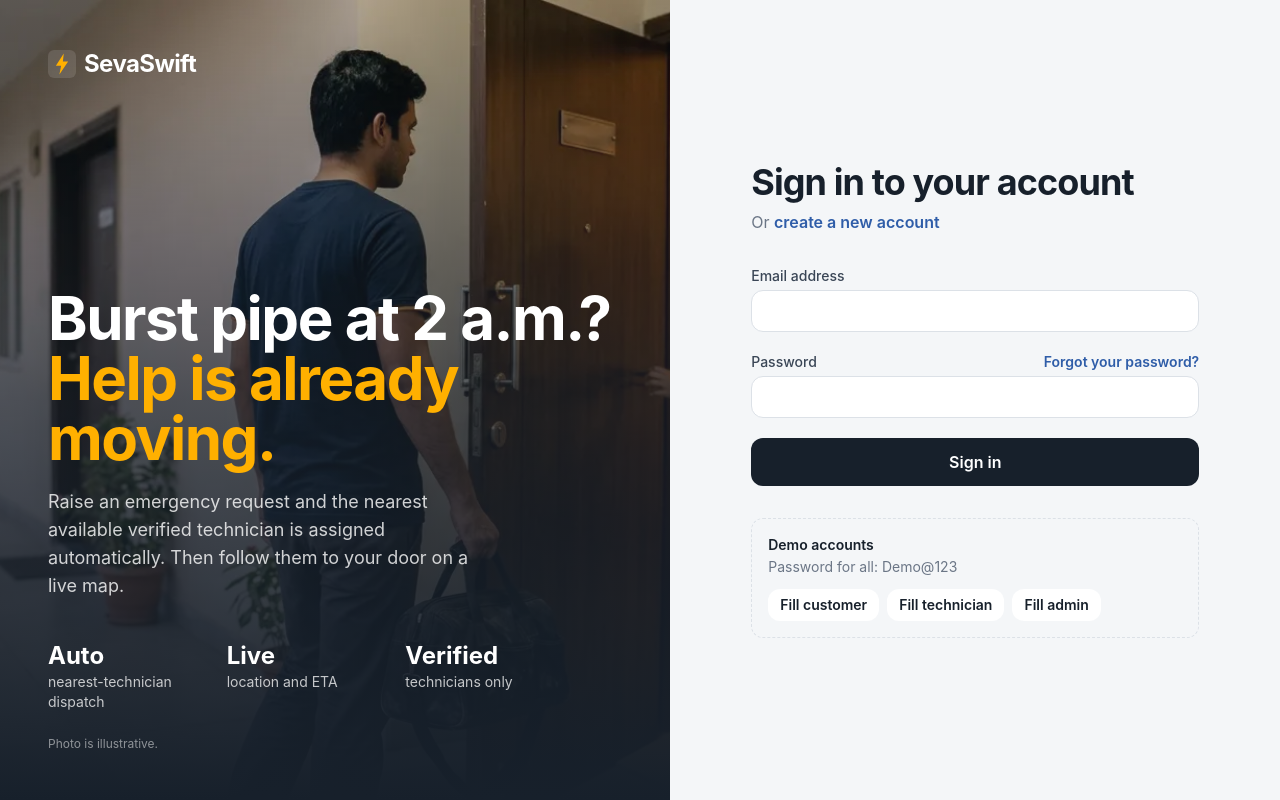
Test: Login Page › shows validation error for invalid email
Type "invalid" into the field labelled "Email address" at (975, 311), box x1=751 y1=290 x2=1199 y2=332
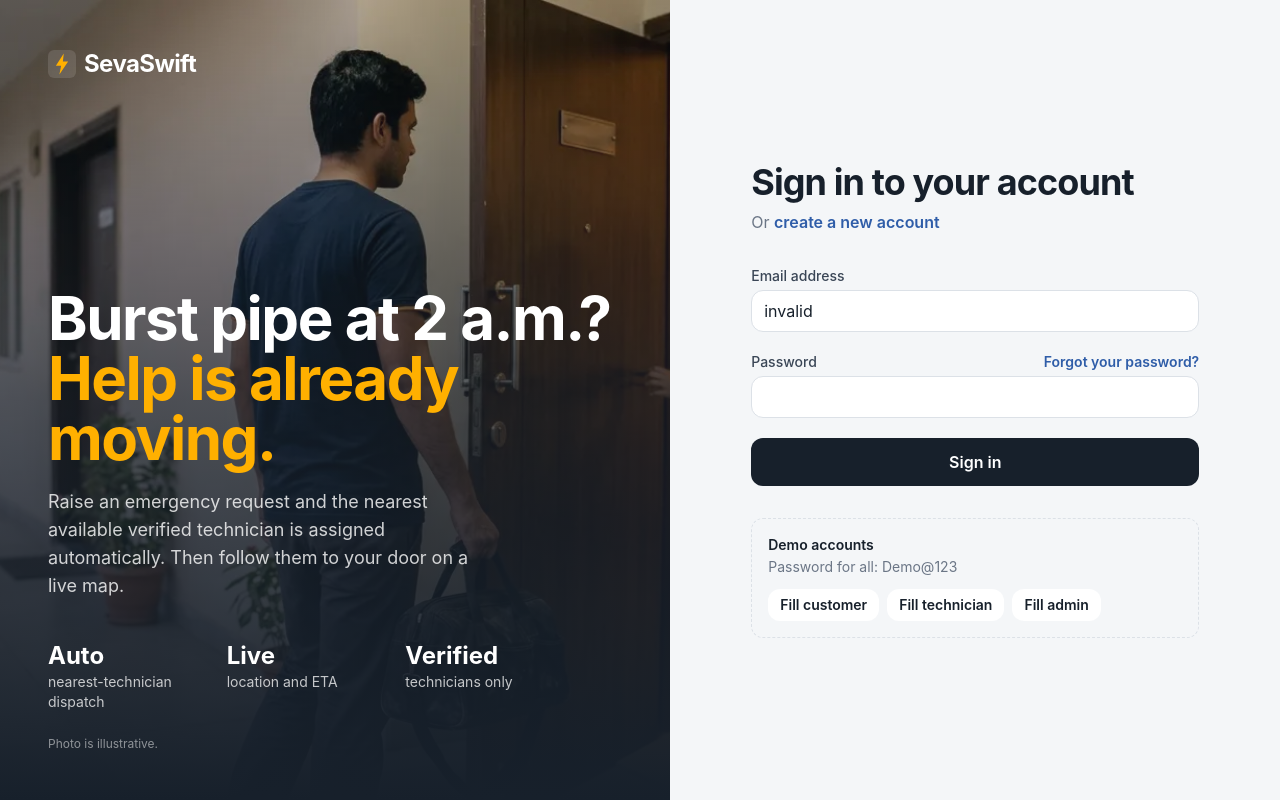
Type "password123" into the password field labelled "Password" at (975, 397), box x1=751 y1=376 x2=1199 y2=418
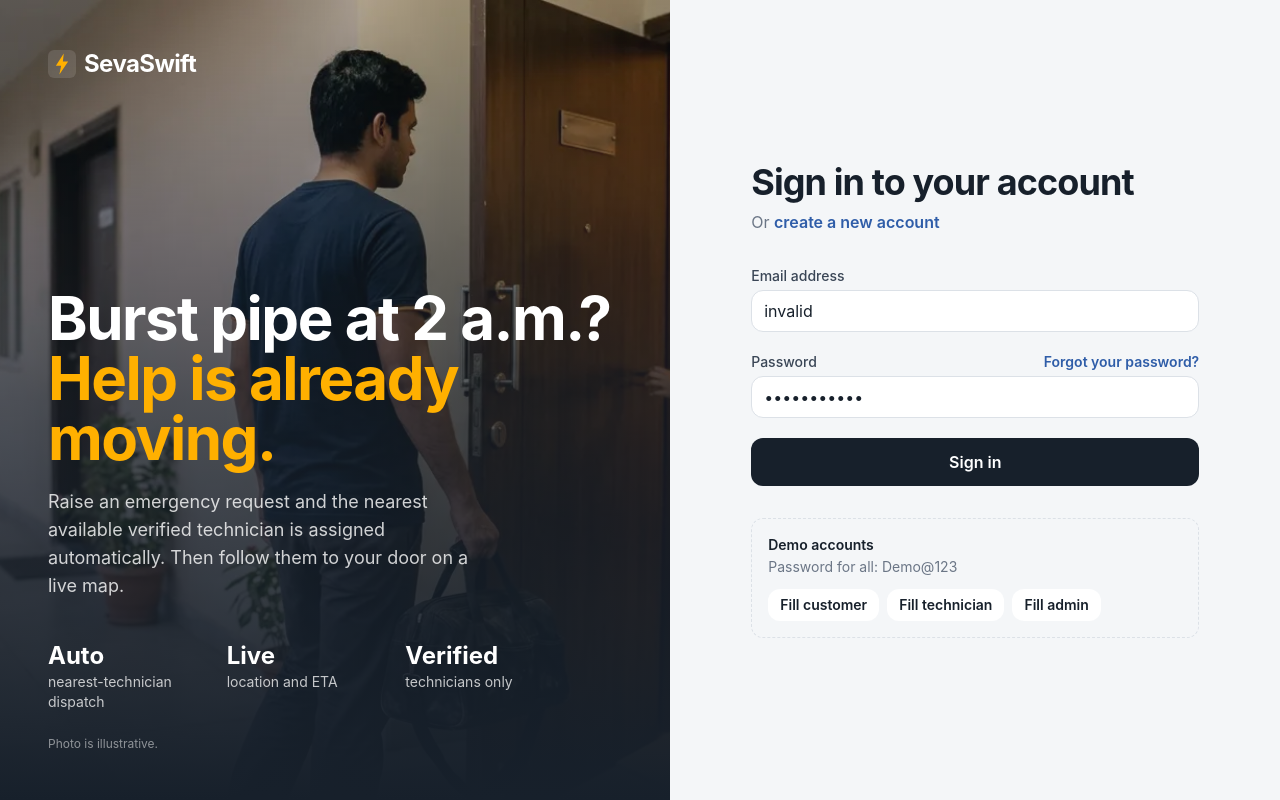
Submit the form with test id "login-form", box x1=751 y1=266 x2=1199 y2=486
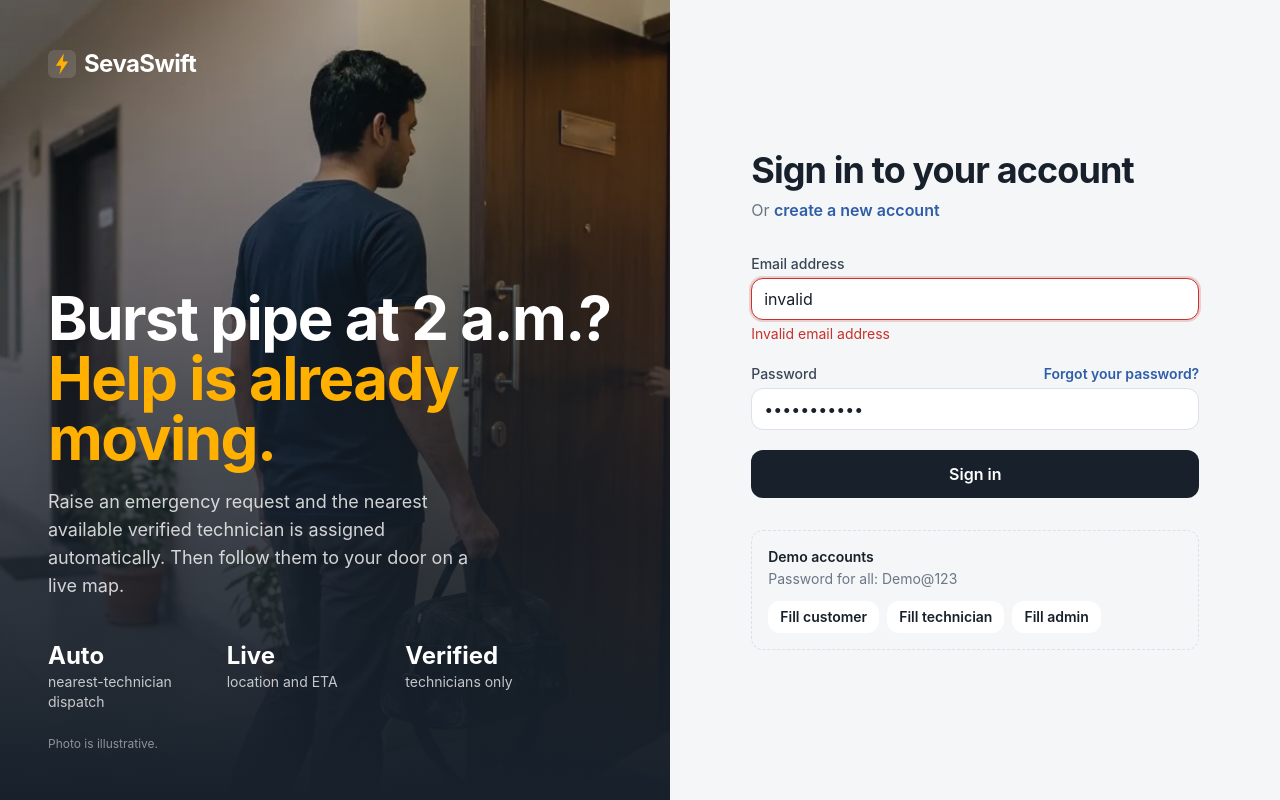
Now the text "Invalid email address" is shown, box x1=751 y1=325 x2=890 y2=342
